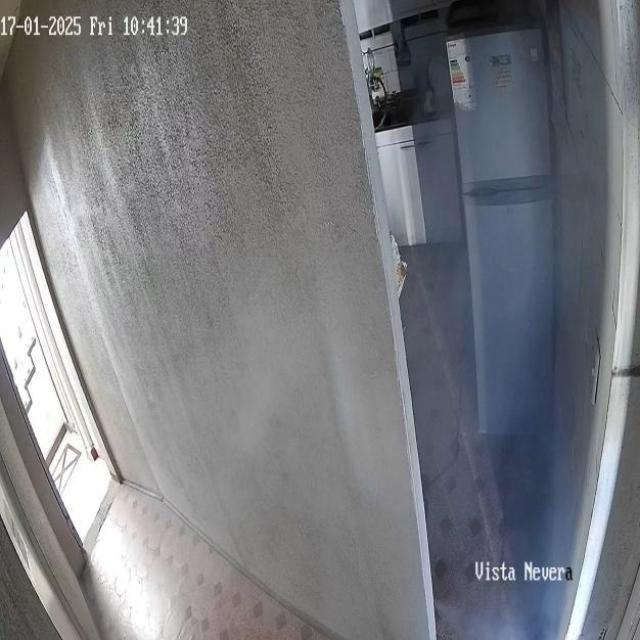fire: (394, 56, 616, 640)
